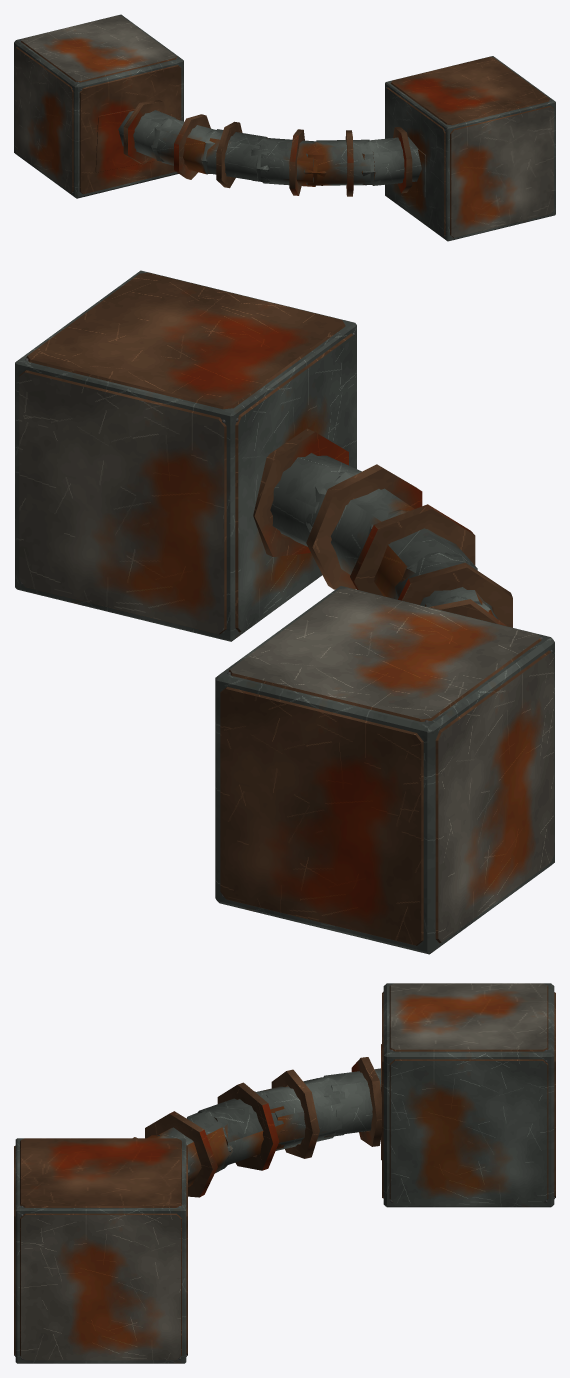
The model's file is R4C_STRUT_ARC.glb.
3 views of the same model, one above another, from view 1: azimuth 30°, elevation 25°; view 2: azimuth 150°, elevation 25°; view 3: azimuth 270°, elevation 25° (orthographic). The views are drawn at different scales.
Parts seen in each view (by area): view 1: R4C_STRUT_ARC; view 2: R4C_STRUT_ARC; view 3: R4C_STRUT_ARC.
Part boxes in pixels (bbox=[...]): R4C_STRUT_ARC: bbox=[14, 14, 555, 241]; R4C_STRUT_ARC: bbox=[15, 270, 554, 954]; R4C_STRUT_ARC: bbox=[14, 983, 555, 1363].
Bounding box in the file's own units: 1.62 × 0.52 × 1.62.
Materials: 4 (4 with a texture image).
